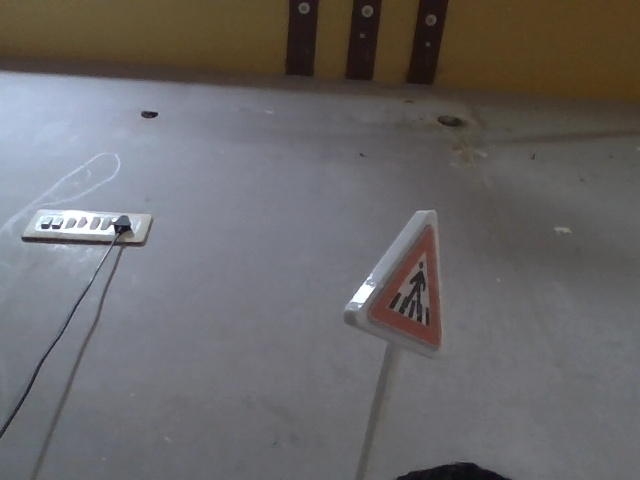crossing: (338, 204, 479, 350)
